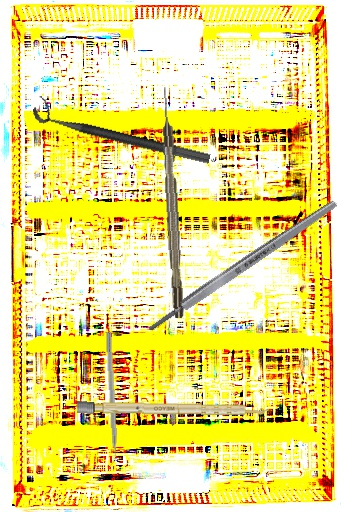Chopper: (98, 331, 119, 468)
Fixation Ring: (30, 95, 215, 165)
Hook Surgical: (159, 86, 185, 319)
Scalpel Handle: (145, 197, 340, 335), (76, 401, 269, 417)
